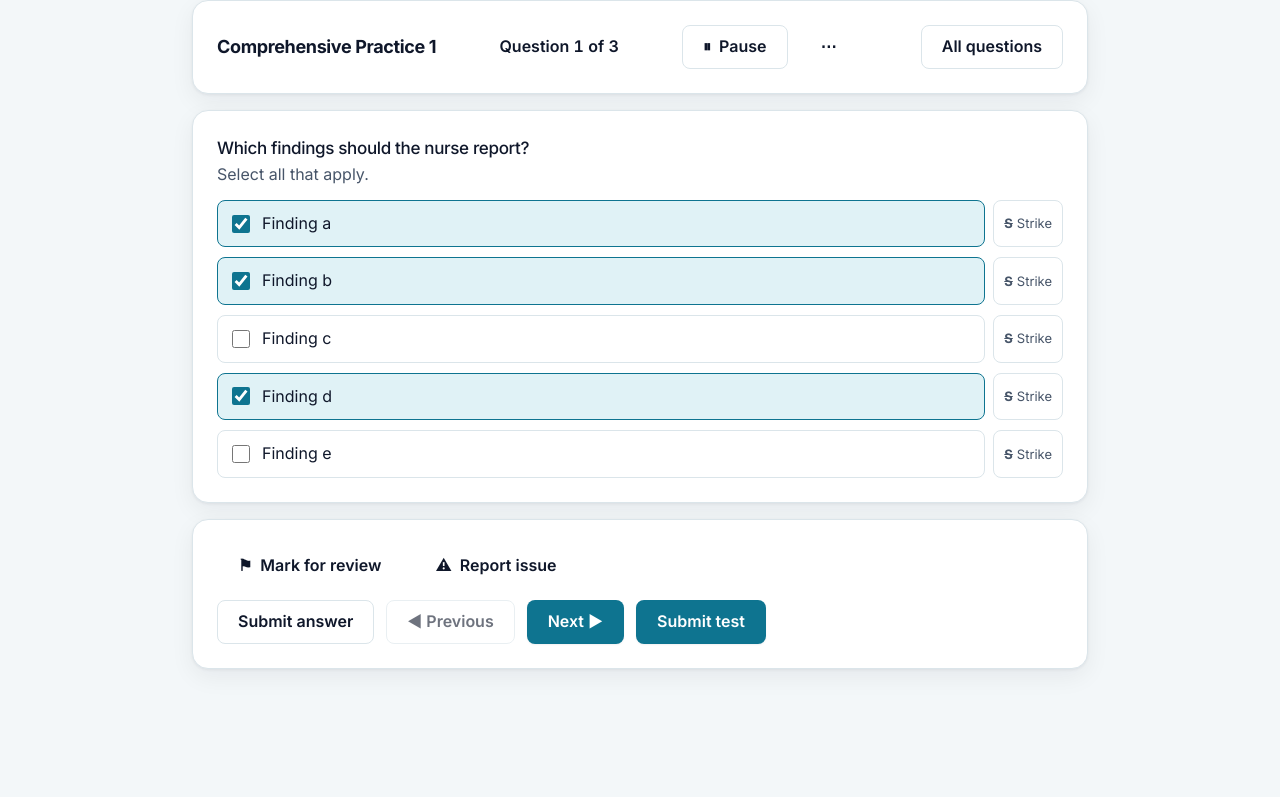
Scenario: AttemptPlayer submitting › in tutor mode submits one answer and shows its rationale with partial credit
This screenshot has width=1280, height=797.
Expected: the heading "Which findings should the nurse report?" is shown, [217, 138, 529, 158]
Click the button "Submit answer" at coordinates (296, 622), box [217, 600, 374, 644]
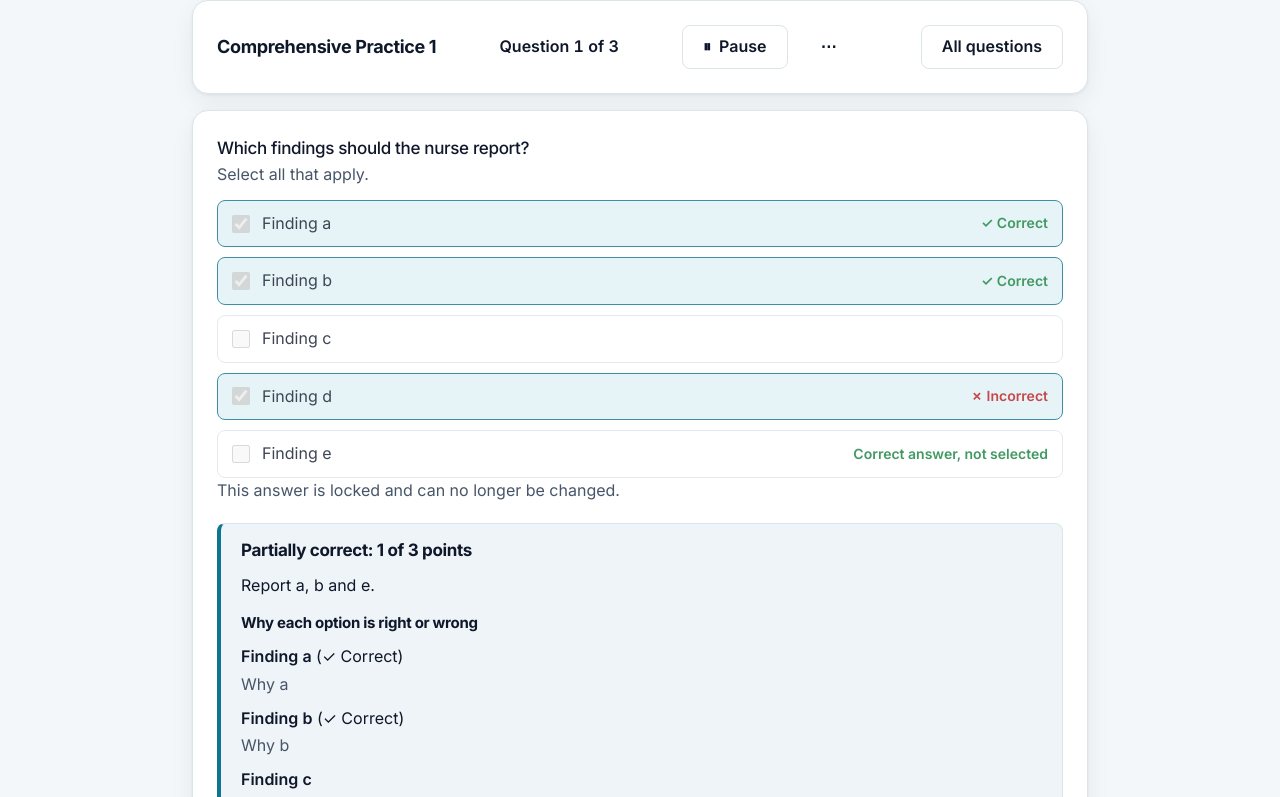
Expected: the heading "Partially correct: 1 of 3 points" is shown, [241, 540, 472, 560]
Expected: the element named "Rationale" shows "Report a, b and e.", [241, 575, 375, 595]
Expected: the checkbox labelled "Finding d ✗ Incorrect" is disabled, [232, 387, 250, 405]
